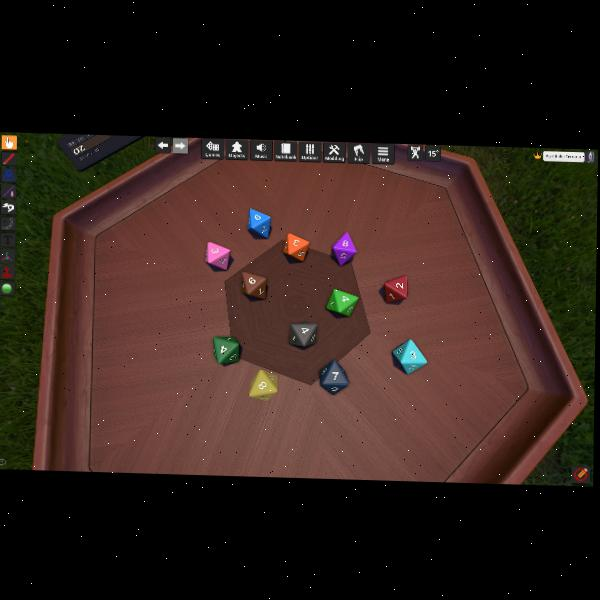d8: (393, 337, 427, 373), (319, 359, 348, 393), (332, 231, 357, 266), (249, 369, 278, 399), (326, 288, 357, 316), (212, 335, 240, 364), (241, 271, 267, 299), (205, 241, 230, 270), (290, 321, 317, 347), (284, 233, 309, 261), (249, 206, 271, 237), (385, 275, 407, 303)
